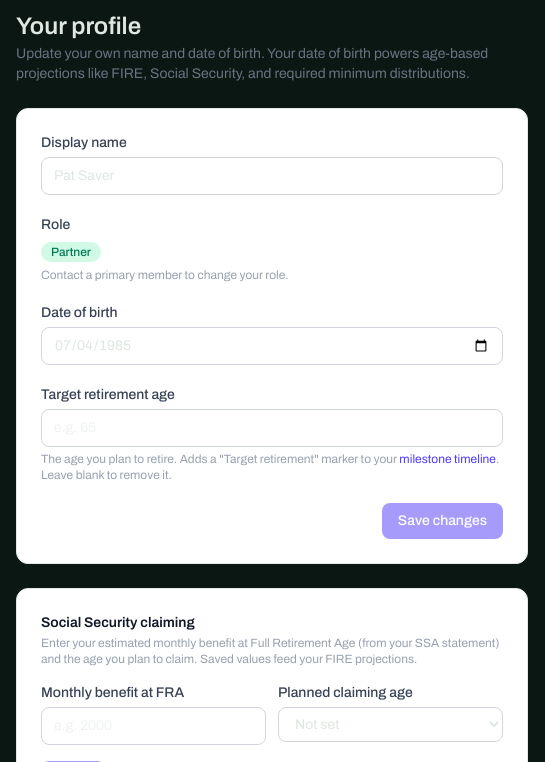
Test: Profile › saves only the changed date of birth
This screenshot has width=545, height=762.
In the date field labelled "Date of birth": [272, 346] box [41,327,503,365], type "1990-01-01"
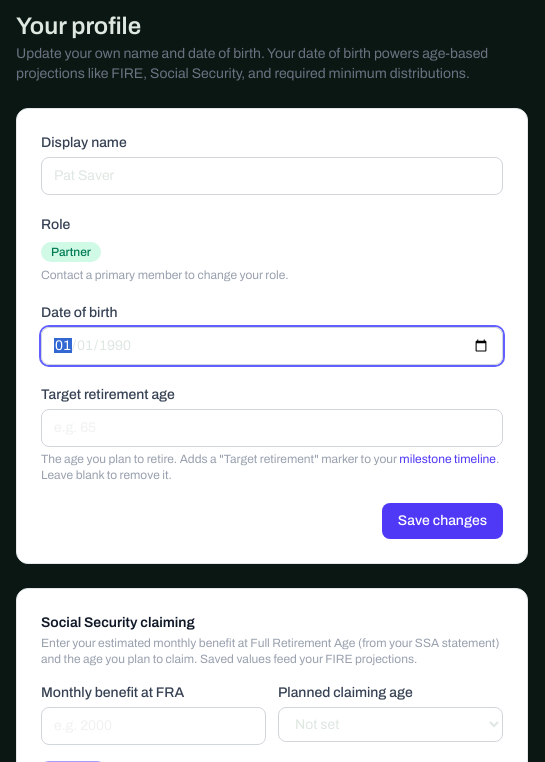
Click the button "Save changes": [442, 521] box [382,503,503,539]
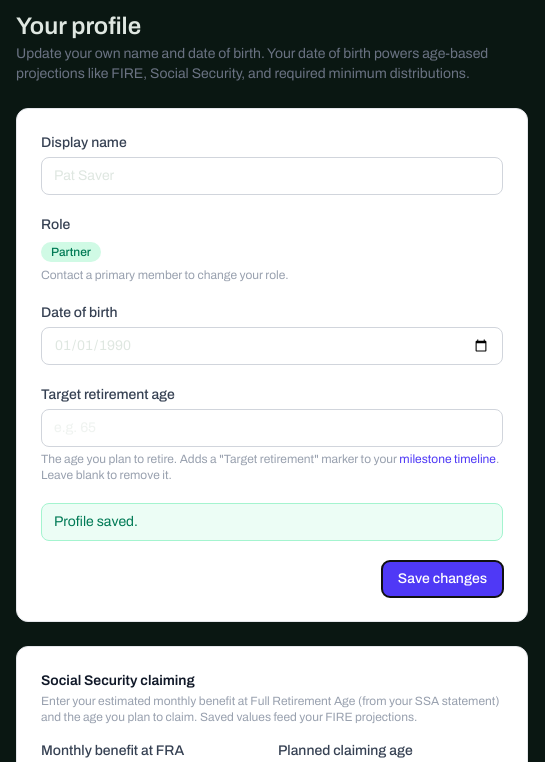
Now the text "Profile saved." is shown, box [41,503,503,541]
